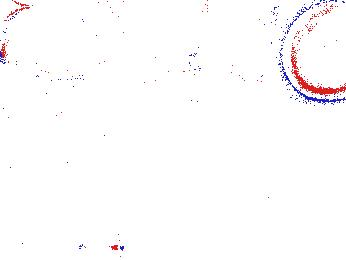moon jellyfish: (10, 1, 124, 81), (281, 3, 346, 102), (132, 2, 211, 82), (224, 9, 277, 83)
